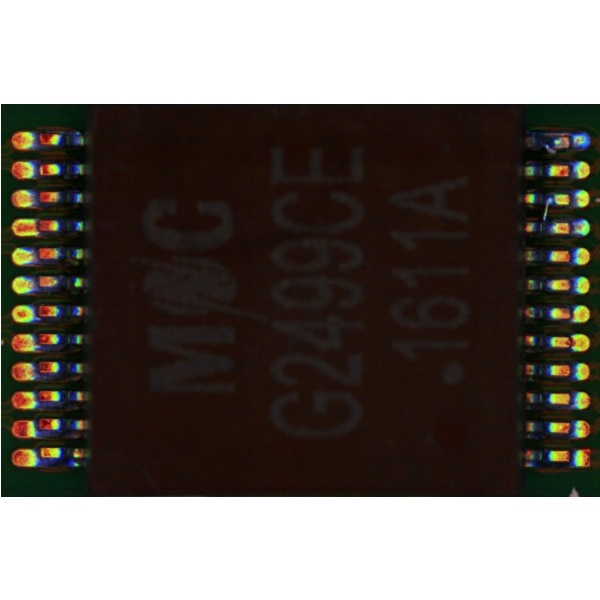Bad_podu: (560, 337, 577, 348), (27, 220, 42, 232)
